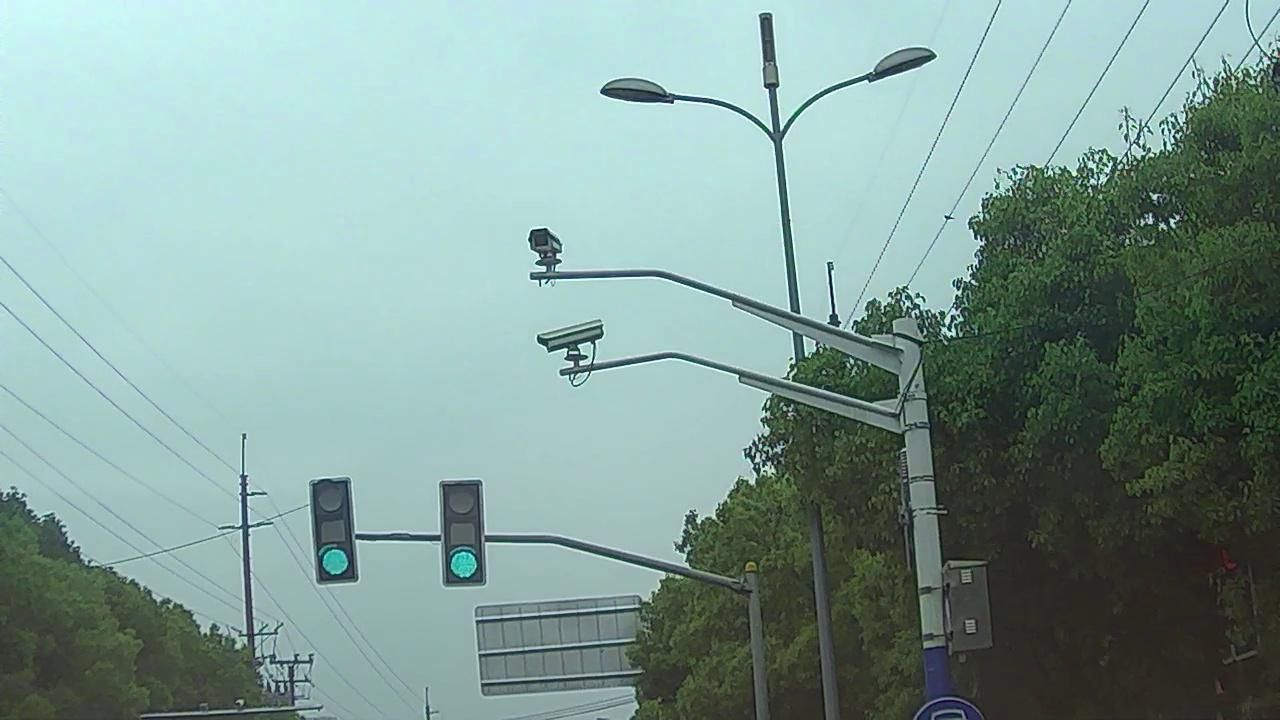traffic_light: (310, 478, 357, 580), (443, 478, 485, 584)
